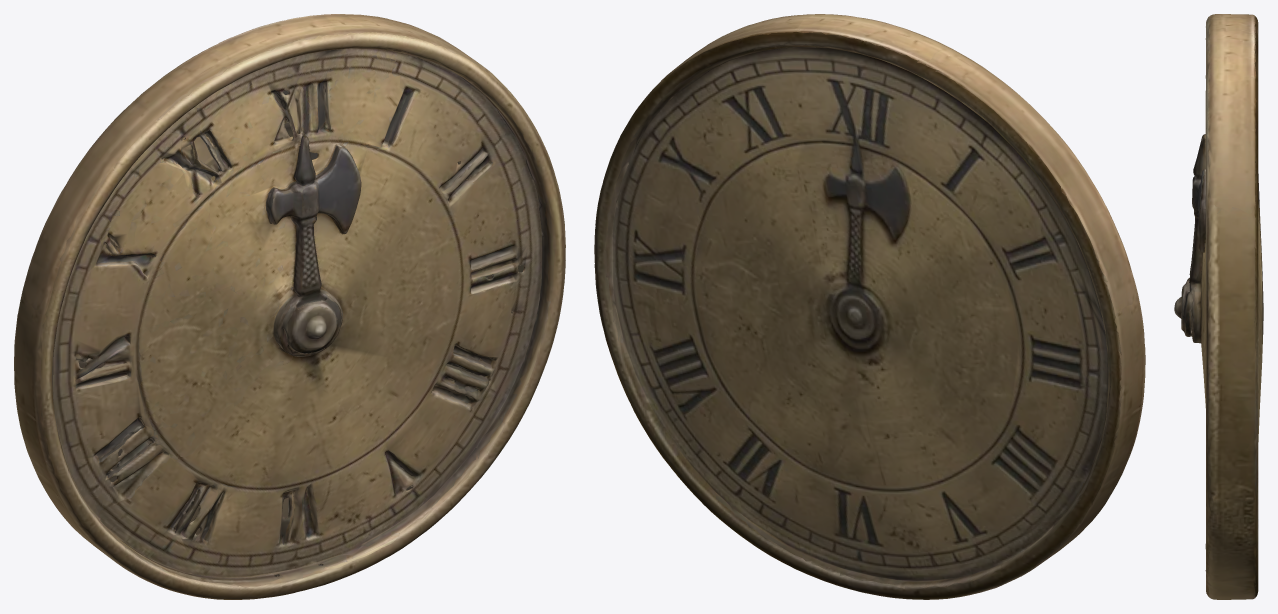
The model's file is obj_basement_dial_2_body.glb.
The picture shows the model from 3 angles, left to right: view 1: azimuth 30°, elevation 25°; view 2: azimuth 150°, elevation 25°; view 3: azimuth 270°, elevation 25°; orthographic projection. The views are drawn at different scales.
Parts seen in each view (by area): view 1: geometry_0; view 2: geometry_0; view 3: geometry_0.
Part boxes in pixels (x1,y1,x2,y2): geometry_0: (14,14,565,599); geometry_0: (594,14,1145,599); geometry_0: (1174,14,1263,599).
Bounding box in the file's own units: 0.15 × 0.1499 × 0.023.
1 material, 1 textured.
